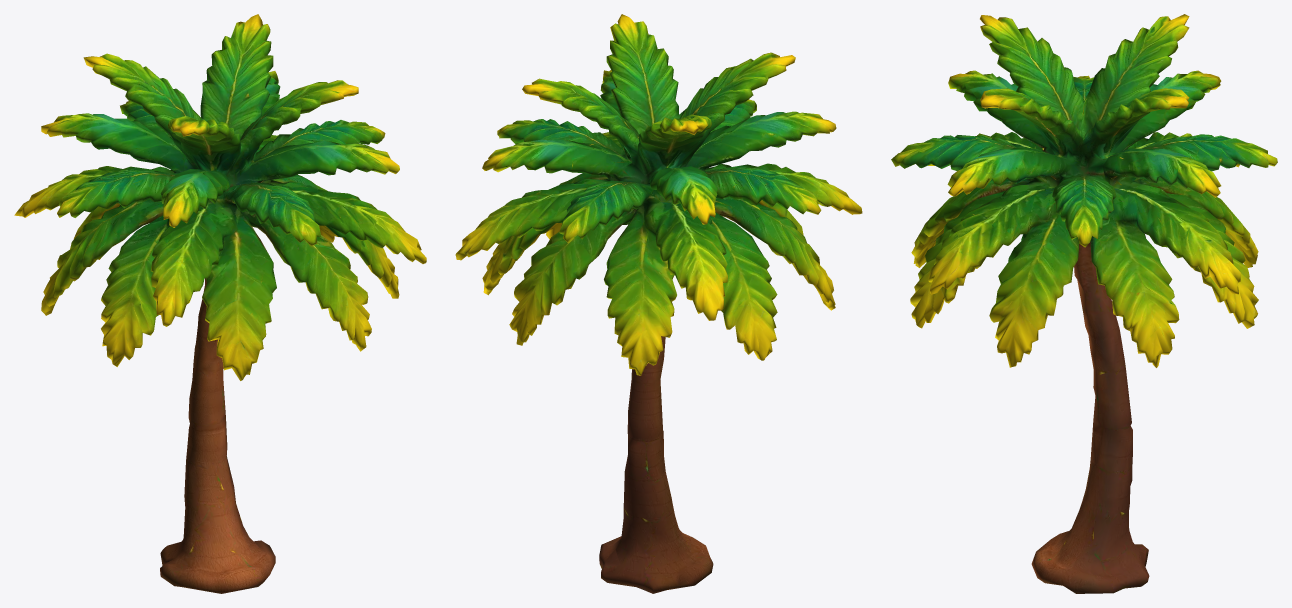
Rendered from prop_palm.glb.
3 renders of one model, left to right at view 1: azimuth 30°, elevation 25°; view 2: azimuth 150°, elevation 25°; view 3: azimuth 270°, elevation 25°, orthographic. The views are drawn at different scales.
Size of the model in its own units: 1.31 by 1.91 by 1.3.
Materials: 1 (1 with a texture image).
